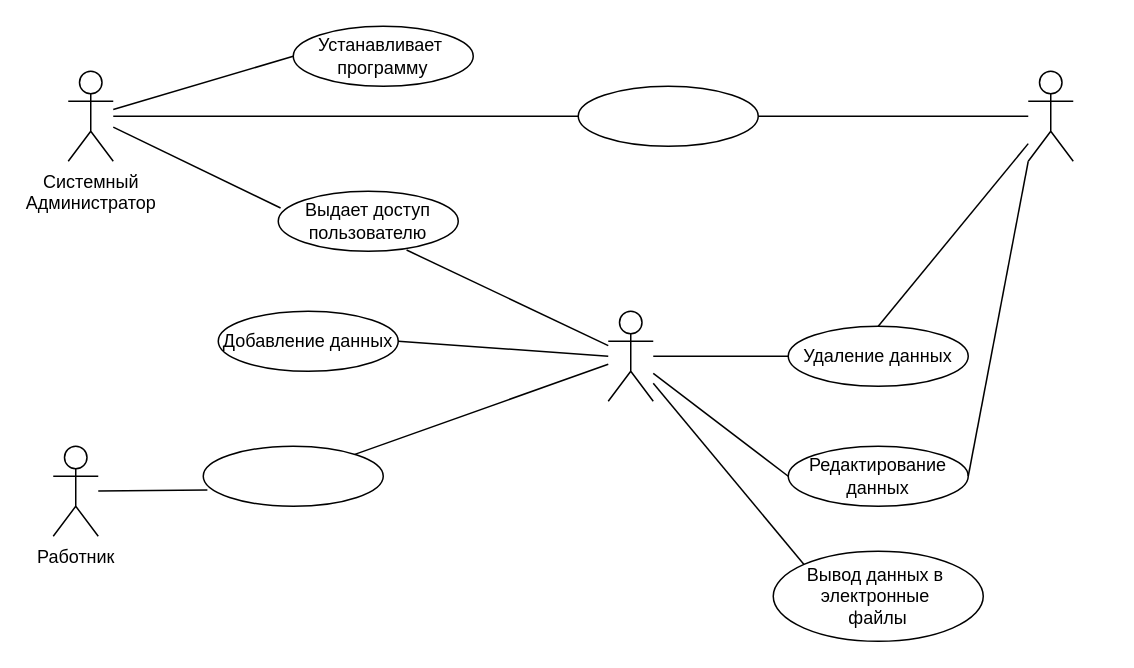
Image size: 1134x668. Some labels were removed from this diagram. Here are the shapes that lost their labels. From the top down, the centre of each, then its label:
At (667,115): "Настройка Базы Данных".
At (1050,115): "Служба Безопасности".
At (630,355): "Диспетчер".
At (292,475): "Предоставление данных работника".
